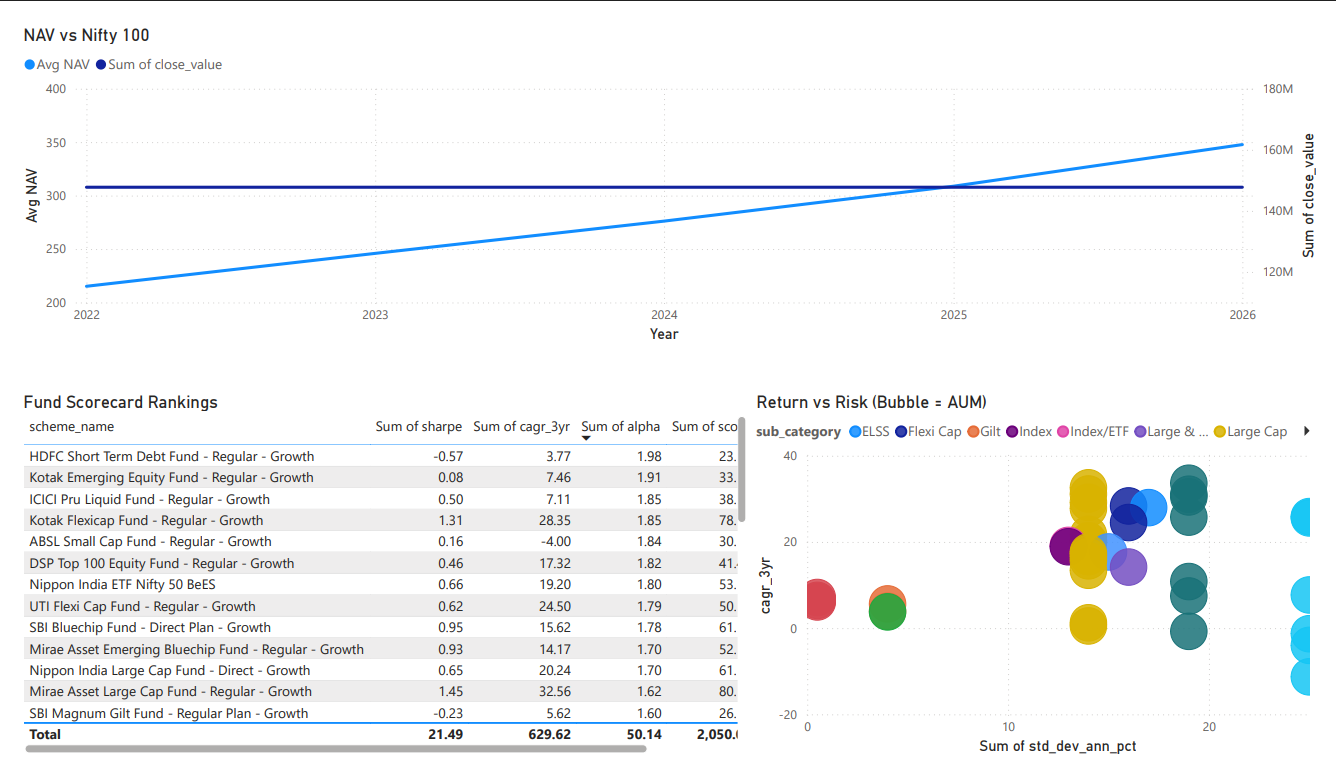

The page's visual inventory and layout, read from the dashboard file:
{"tool":"powerbi","page":{"name":"Fund Performance","canvas":[1280,720],"ordinal":1},"visuals":[{"type":"scatterChart","title":"Return vs Risk (Bubble = AUM)","fields":{"X":["Sum(clean_scheme_performance.std_dev_ann_pct)"],"Y":["fund_scorecard.cagr_3yr"],"Size":["Sum(clean_aum_by_fund_house.aum_crore)"],"Series":["clean_fund_master.sub_category"]},"box":[720.4,359.5,559.9,360.9],"z":0},{"type":"tableEx","title":" Fund Scorecard Rankings","fields":{"Values":["clean_fund_master.scheme_name","Sum(fund_scorecard.sharpe)","Sum(fund_scorecard.cagr_3yr)","Sum(clean_scheme_performance.alpha)","Sum(fund_scorecard.score)","Sum(fund_scorecard.rank)"]},"box":[0,359.5,720.4,360.9],"z":1},{"type":"lineChart","title":"NAV vs Nifty 100","fields":{"Category":["clean_nav_history.date.Variation.Date Hierarchy.Year","clean_nav_history.date.Variation.Date Hierarchy.Quarter","clean_nav_history.date.Variation.Date Hierarchy.Month","clean_nav_history.date.Variation.Date Hierarchy.Day"],"Y":["KPI_AUM.Avg NAV"],"Y2":["Sum(clean_benchmark_indices.close_value)"]},"box":[0,0,1280.3,315.6],"z":2}]}

Visuals, with their boxes on the page's 1280x720 design canvas (x1, y1, x2, y2). These are canvas units, not pixel positions in the 1336x775 screenshot, which may show the page scaled, cropped or inside an application window:
"Return vs Risk (Bubble = AUM)" scatterChart: left=720, top=360, right=1280, bottom=720
" Fund Scorecard Rankings" tableEx: left=0, top=360, right=720, bottom=720
"NAV vs Nifty 100" lineChart: left=0, top=0, right=1280, bottom=316
